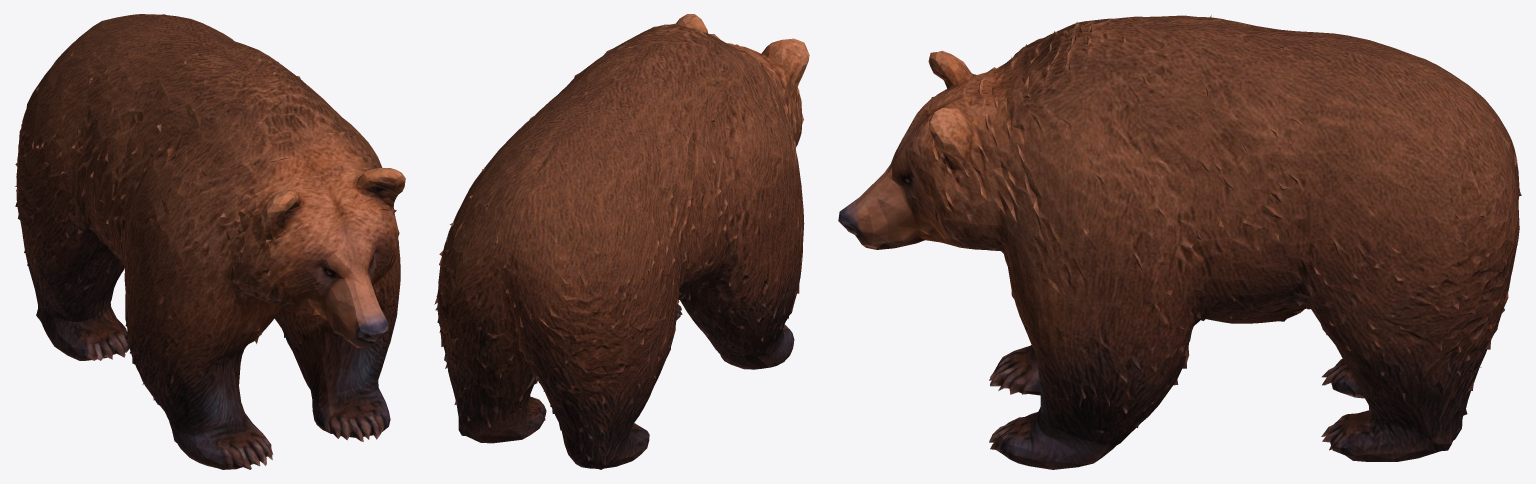
The picture shows the model from 3 angles, left to right: view 1: azimuth 30°, elevation 25°; view 2: azimuth 150°, elevation 25°; view 3: azimuth 270°, elevation 25°; orthographic projection. The views are drawn at different scales.
Parts seen in each view (by area): view 1: geometry_0; view 2: geometry_0; view 3: geometry_0.
Part boxes in pixels (x1,y1,x2,y2): geometry_0: [15, 14, 405, 469]; geometry_0: [434, 14, 809, 469]; geometry_0: [838, 15, 1521, 469].
Size of the model in its own units: 0.475 by 0.6336 by 1.
1 material, 1 textured.
